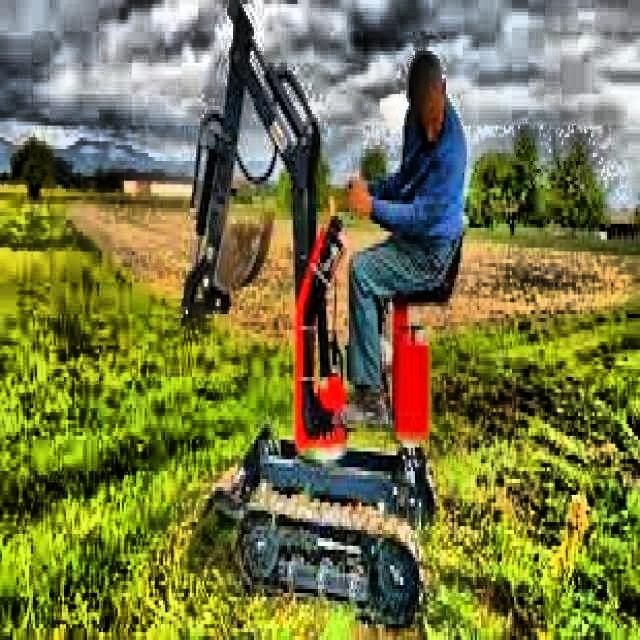bull_dozer/loader/grader: (174, 0, 474, 635)
person: (337, 35, 470, 440)
